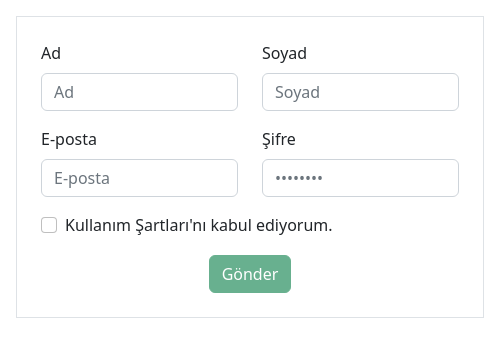
Test: Form Testi › İsim girdisi hata kontrolü
Step 1. Type "John" into the field with test id "isim" → (140, 92), box [41, 73, 238, 111]
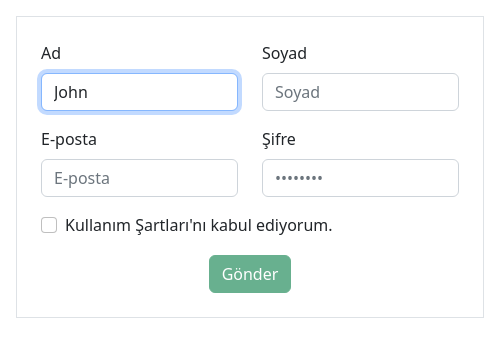
Step 2. Clear the field with test id "isim" → (140, 92), box [41, 73, 238, 111]
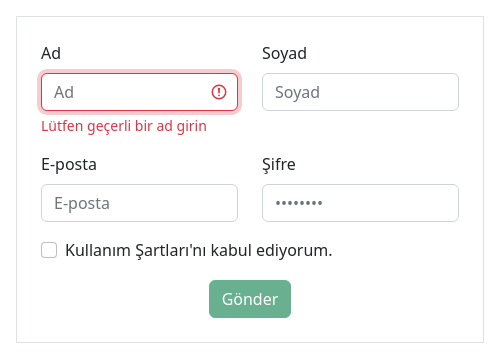
Expected: the text "Lütfen geçerli bir ad girin" is shown, [41, 116, 207, 135]
